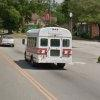buses: (21, 26, 73, 70)
